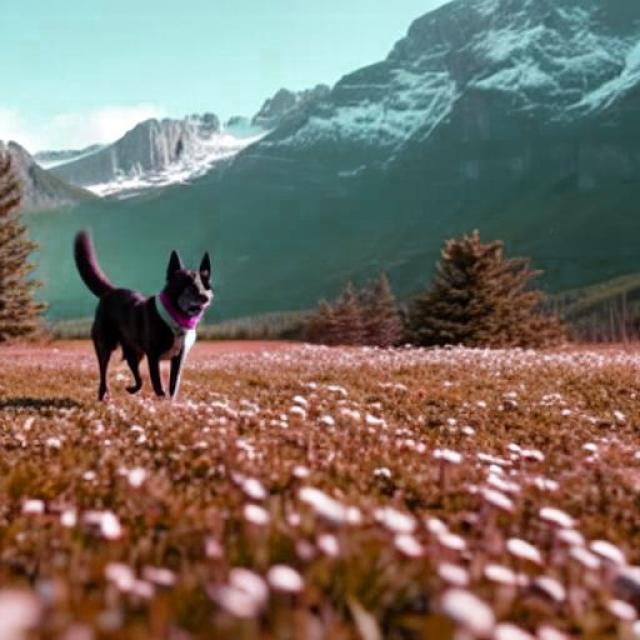Dog: (74, 227, 215, 402)
